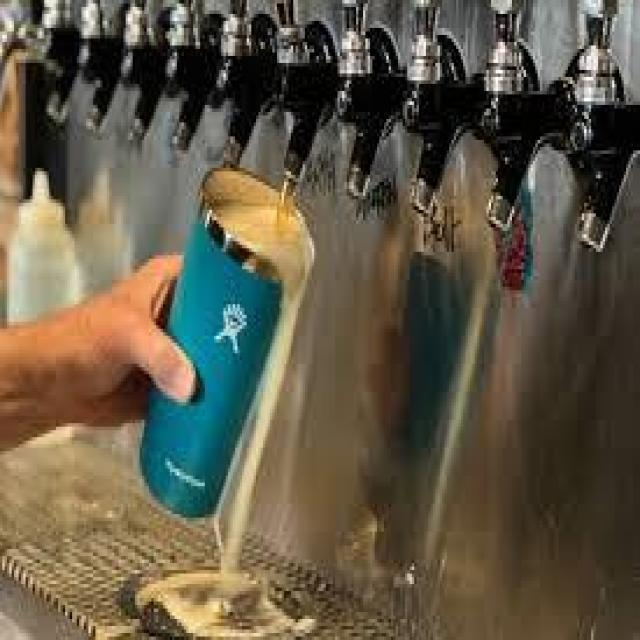bottle: (132, 164, 316, 521)
